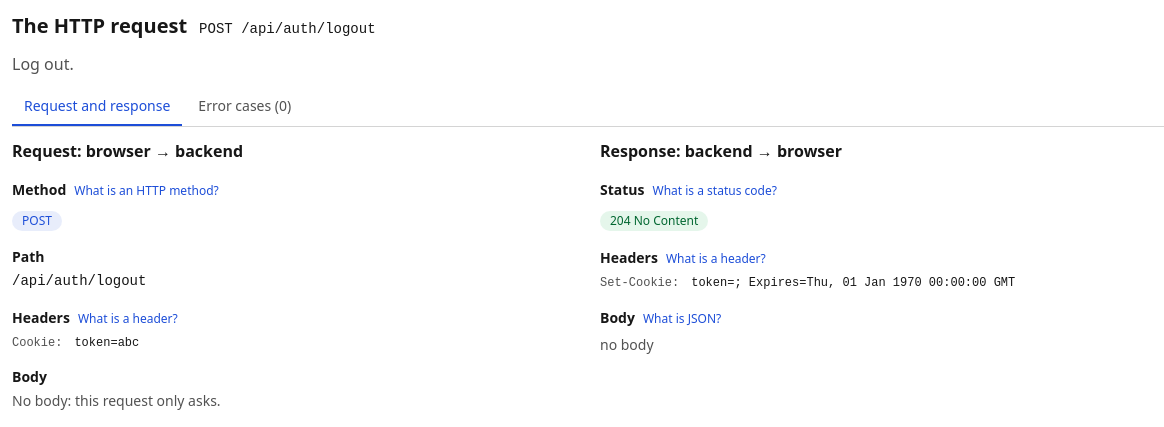
Test: HttpDetails › says when there is no body, and when an endpoint has no errors
Expected: the text "No body: this request only asks." is shown, [12,391,221,410]
Expected: the text "no body" is shown, [600,335,654,354]
Click the tab "Error cases (0)".
click(245, 107)  # box [186,88,303,126]
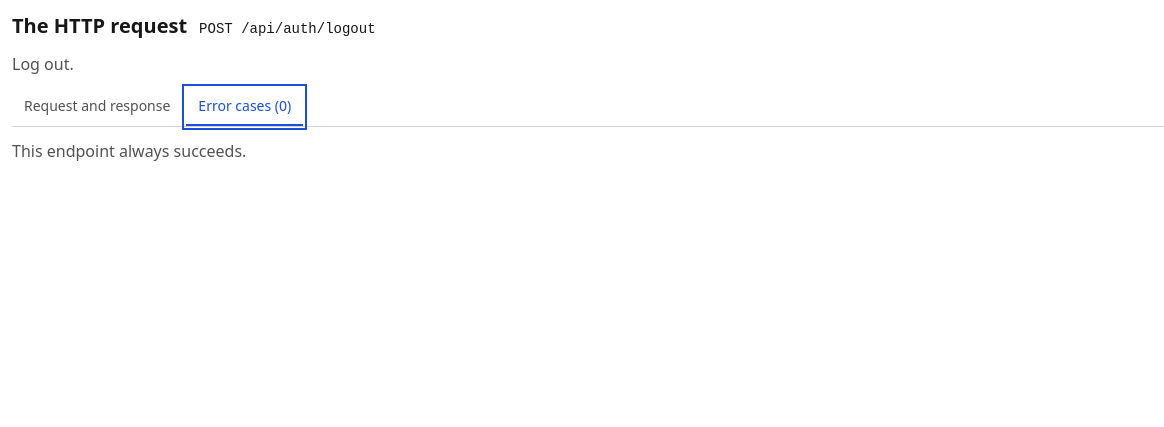
Expected: the text "This endpoint always succeeds." is shown, [12,140,246,162]
